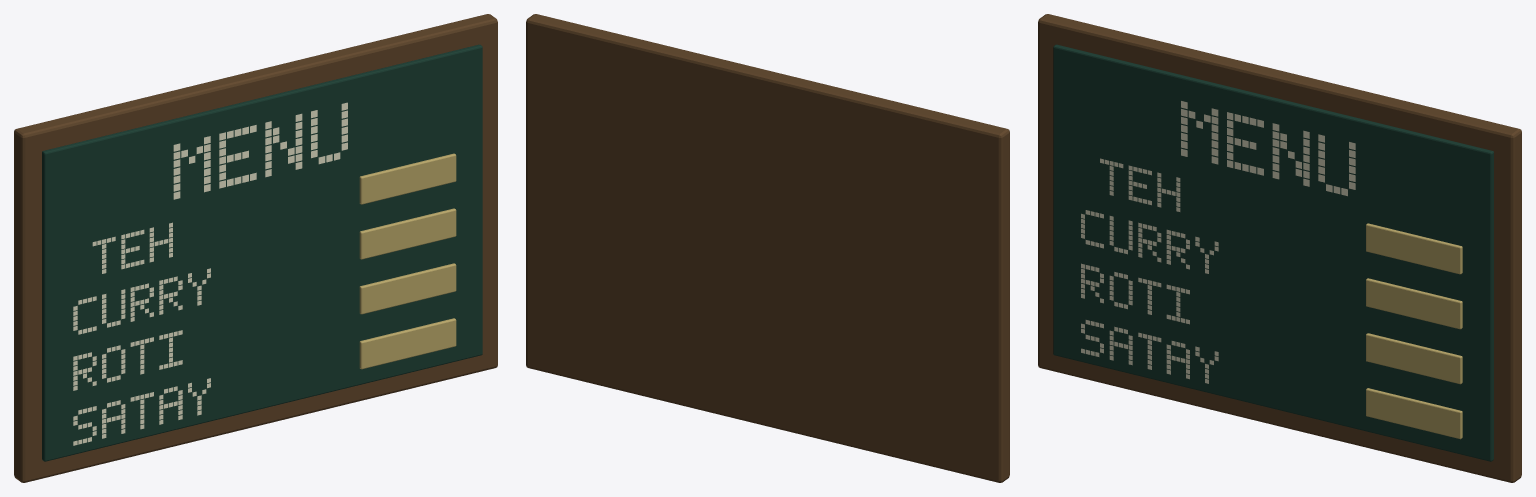
File: source-edit.glb
3 renders of one model, left to right at view 1: azimuth 30°, elevation 25°; view 2: azimuth 150°, elevation 25°; view 3: azimuth 330°, elevation 25°, orthographic.
Visible parts, largest first — view 1: BOARD_Face, BOARD_Back, LABEL_MENU, PRICE_Replaceable_CURRY, PRICE_Replaceable_SATAY, PRICE_Replaceable_ROTI, PRICE_Replaceable_TEH, LABEL_CURRY, LABEL_SATAY, LABEL_ROTI, LABEL_TEH; view 2: BOARD_Back; view 3: BOARD_Face, BOARD_Back, LABEL_MENU, PRICE_Replaceable_CURRY, PRICE_Replaceable_TEH, PRICE_Replaceable_ROTI, PRICE_Replaceable_SATAY, LABEL_CURRY, LABEL_SATAY, LABEL_ROTI, LABEL_TEH.
Part boxes in pixels (box(x1,y1,x2,y2)): BOARD_Face: box(42, 44, 482, 461); BOARD_Back: box(14, 14, 497, 482); LABEL_MENU: box(173, 102, 347, 199); PRICE_Replaceable_CURRY: box(359, 208, 456, 259); PRICE_Replaceable_SATAY: box(359, 318, 456, 369); PRICE_Replaceable_ROTI: box(359, 263, 456, 314); PRICE_Replaceable_TEH: box(359, 153, 456, 204); LABEL_CURRY: box(73, 268, 210, 334); LABEL_SATAY: box(73, 378, 210, 445); LABEL_ROTI: box(73, 330, 182, 390); LABEL_TEH: box(92, 222, 172, 273); BOARD_Back: box(526, 14, 1009, 482); BOARD_Face: box(1053, 44, 1493, 461); BOARD_Back: box(1038, 14, 1521, 482); LABEL_MENU: box(1181, 101, 1355, 196); PRICE_Replaceable_CURRY: box(1366, 278, 1462, 329); PRICE_Replaceable_TEH: box(1366, 223, 1462, 274); PRICE_Replaceable_ROTI: box(1366, 333, 1462, 384); PRICE_Replaceable_SATAY: box(1366, 388, 1462, 439); LABEL_CURRY: box(1081, 210, 1218, 273); LABEL_SATAY: box(1081, 320, 1218, 383); LABEL_ROTI: box(1081, 263, 1189, 324); LABEL_TEH: box(1100, 158, 1180, 211).
Bounding box in the file's own units: 1 × 0.7 × 0.0535.
